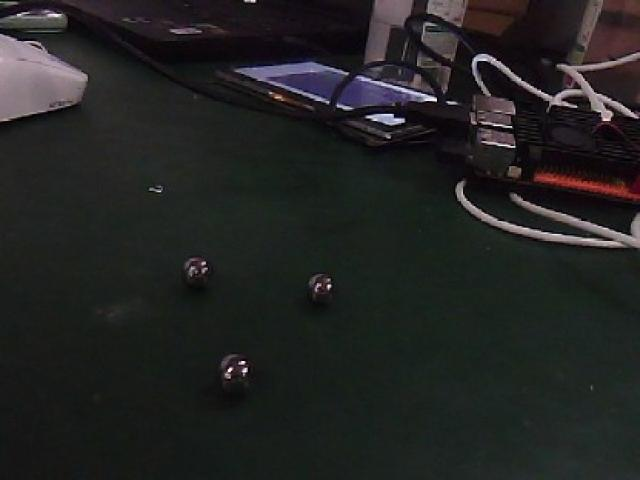steel-ball: (166, 234, 228, 304), (289, 256, 348, 316), (214, 334, 258, 403)
